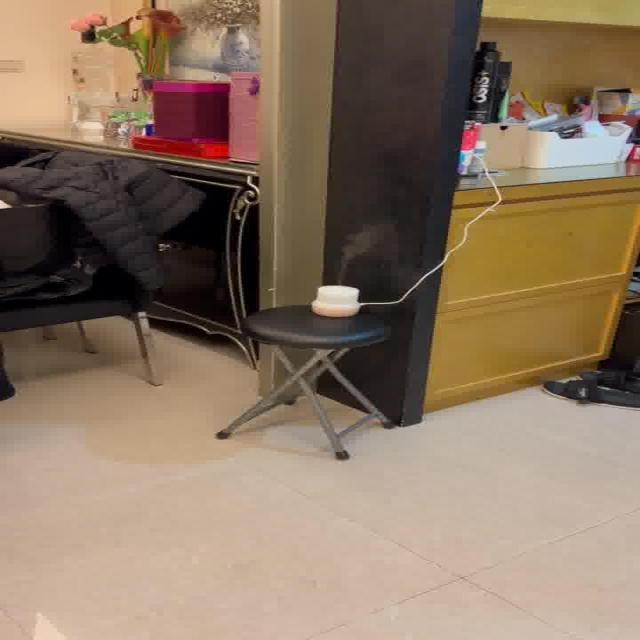fire: (333, 222, 408, 282)
